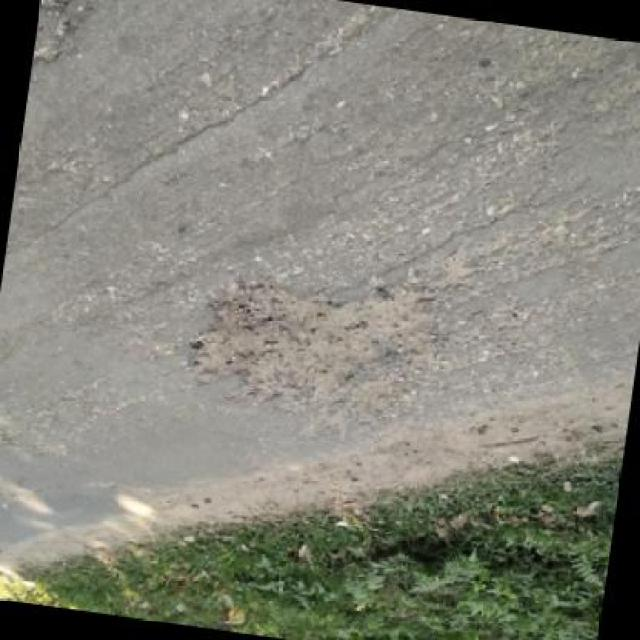pothole: (176, 259, 433, 432)
